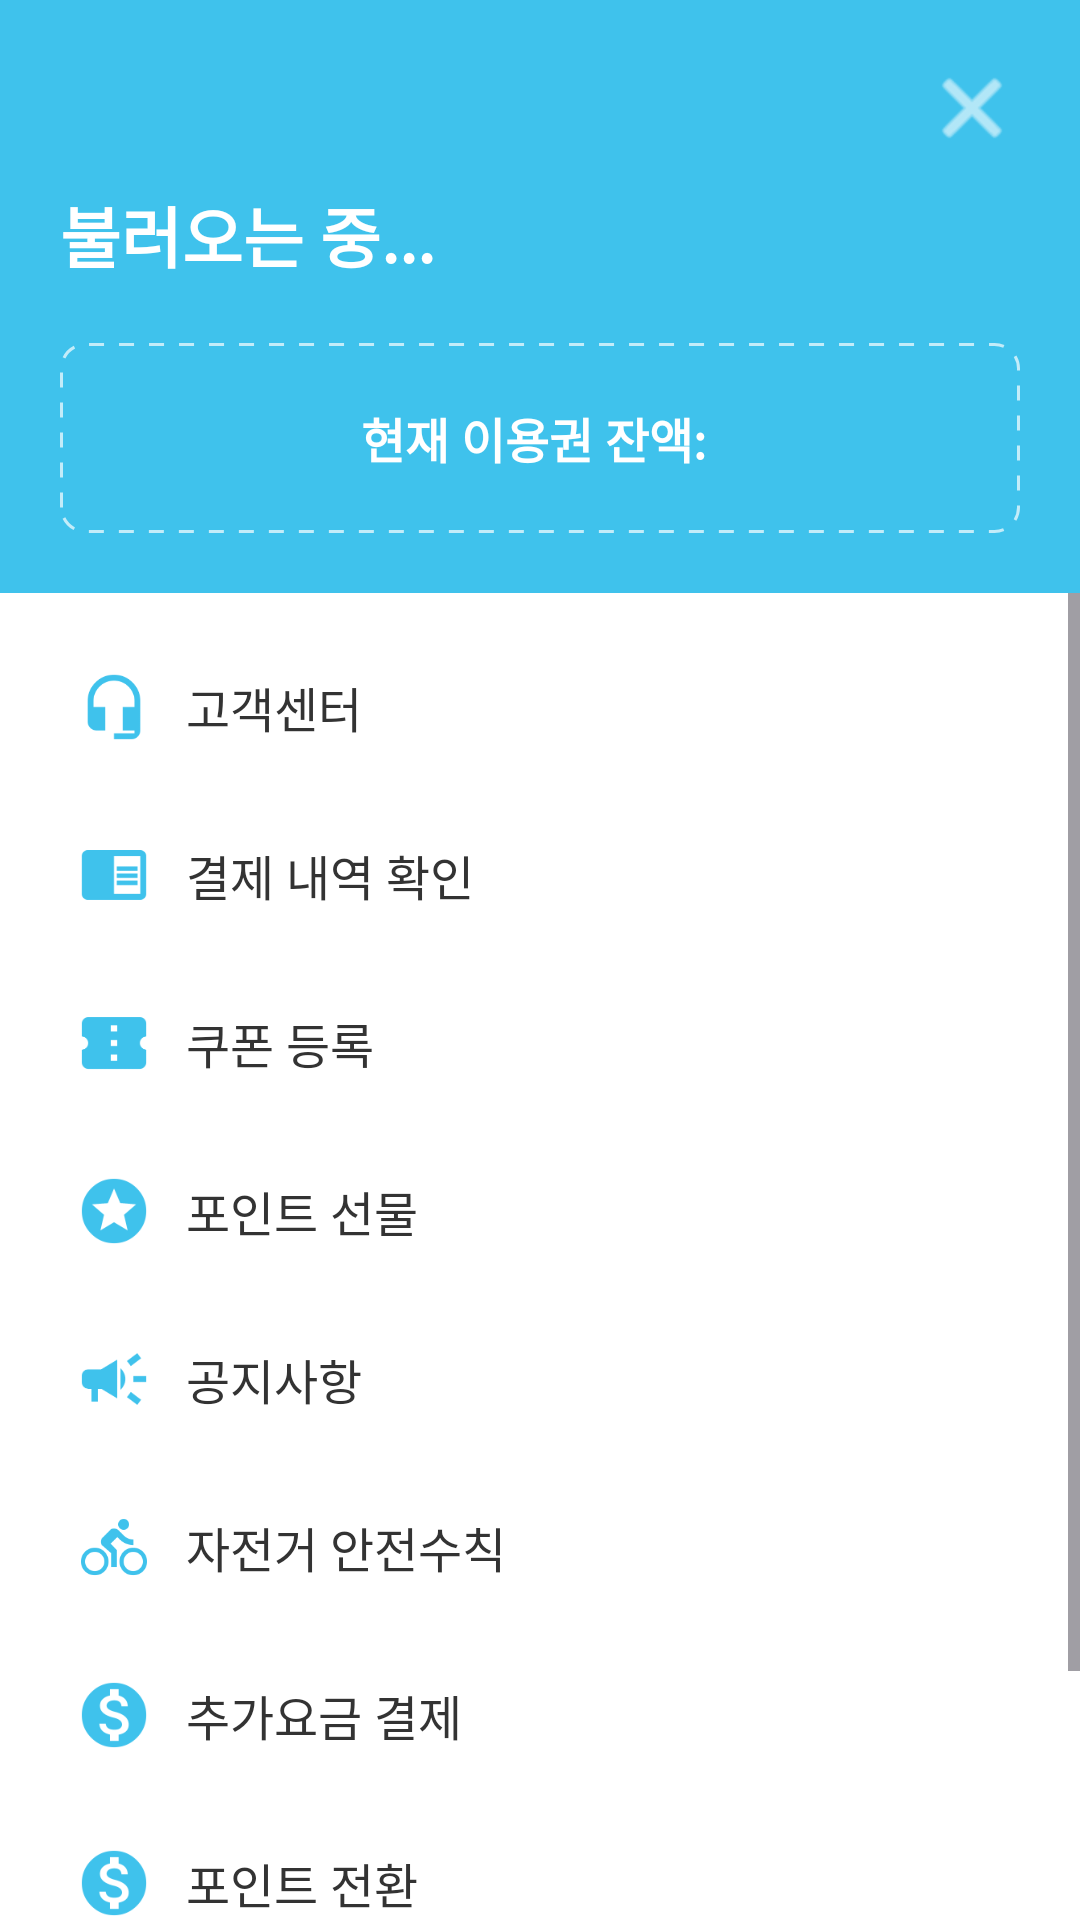

Locate icon controls on the screen. Image size 1080px×1920px, boxes as bbox(x1, y1, x2, y2).
close clear cancel: bbox(942, 78, 1002, 138)
